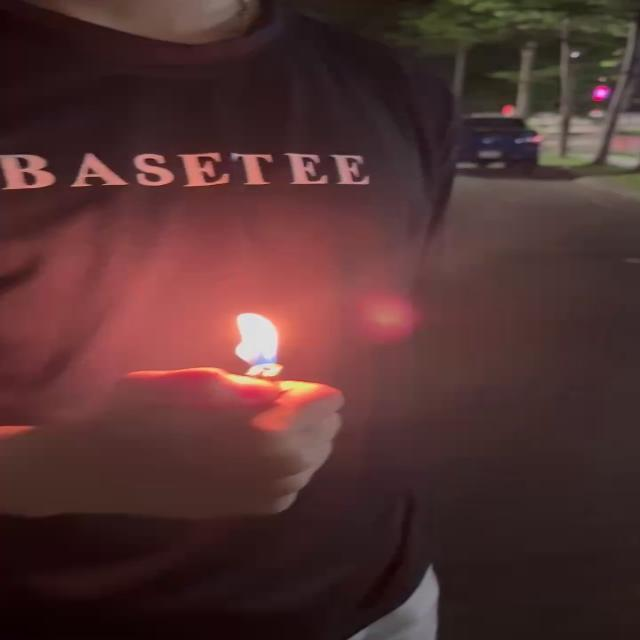Fire: (232, 312, 289, 371)
